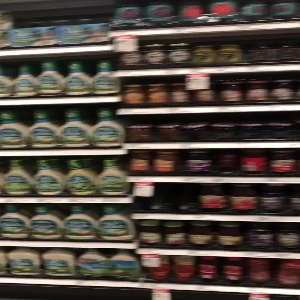void: (134, 183, 197, 214)
